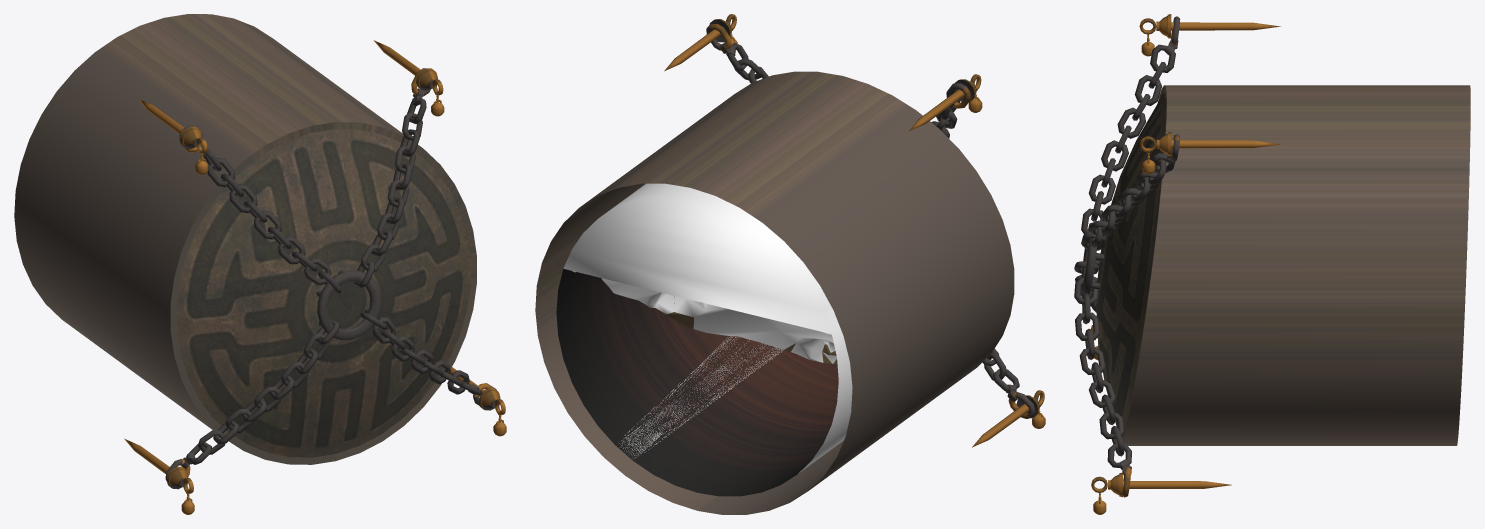
The model's file is objects_un_slshrine01_sw.gltf.
The picture shows the model from 3 angles, left to right: view 1: azimuth 30°, elevation 25°; view 2: azimuth 150°, elevation 25°; view 3: azimuth 270°, elevation 25°; orthographic projection. The views are drawn at different scales.
Visible parts, largest first — view 1: um_objects_un_slshrine01_sw_model_lod0Shape:objects_un_slshr (×2), nomerge_cover_01_shape:objects_un_slshrine01_sw_01, nomerge_chainlock_03_shape:objects_un_slshrine01_sw_04, nomerge_chainlock_02_shape:objects_un_slshrine01_sw_04, nomerge_chainlock_01_shape:objects_un_slshrine01_sw_04, nomerge_chainlock_04_shape:objects_un_slshrine01_sw_04, nomerge_cover_01_shape:objects_un_slshrine01_sw_04; view 2: um_objects_un_slshrine01_sw_model_lod0Shape:objects_un_slshr (×3), nomerge_chainlock_03_shape:objects_un_slshrine01_sw_04, nomerge_chainlock_02_shape:objects_un_slshrine01_sw_04, nomerge_chainlock_01_shape:objects_un_slshrine01_sw_04; view 3: um_objects_un_slshrine01_sw_model_lod0Shape:objects_un_slshr, nomerge_cover_01_shape:objects_un_slshrine01_sw_01, nomerge_chainlock_04_shape:objects_un_slshrine01_sw_04, nomerge_chainlock_01_shape:objects_un_slshrine01_sw_04, nomerge_chainlock_02_shape:objects_un_slshrine01_sw_04, nomerge_cover_01_shape:objects_un_slshrine01_sw_04.
Boxes of the visible parts, x1=… form: um_objects_un_slshrine01_sw_model_lod0Shape:objects_un_slshr (×2): x1=14, y1=14, x2=476, y2=464; nomerge_cover_01_shape:objects_un_slshrine01_sw_01: x1=177, y1=129, x2=470, y2=457; nomerge_chainlock_03_shape:objects_un_slshrine01_sw_04: x1=124, y1=319, x2=339, y2=514; nomerge_chainlock_02_shape:objects_un_slshrine01_sw_04: x1=354, y1=40, x2=444, y2=287; nomerge_chainlock_01_shape:objects_un_slshrine01_sw_04: x1=138, y1=98, x2=341, y2=293; nomerge_chainlock_04_shape:objects_un_slshrine01_sw_04: x1=360, y1=311, x2=506, y2=436; nomerge_cover_01_shape:objects_un_slshrine01_sw_04: x1=316, y1=270, x2=380, y2=340; um_objects_un_slshrine01_sw_model_lod0Shape:objects_un_slshr (×3): x1=535, y1=71, x2=1014, y2=514; nomerge_chainlock_03_shape:objects_un_slshrine01_sw_04: x1=972, y1=348, x2=1045, y2=447; nomerge_chainlock_02_shape:objects_un_slshrine01_sw_04: x1=664, y1=14, x2=768, y2=83; nomerge_chainlock_01_shape:objects_un_slshrine01_sw_04: x1=908, y1=74, x2=982, y2=138; um_objects_un_slshrine01_sw_model_lod0Shape:objects_un_slshr: x1=1122, y1=85, x2=1470, y2=445; nomerge_cover_01_shape:objects_un_slshrine01_sw_01: x1=1096, y1=93, x2=1165, y2=428; nomerge_chainlock_04_shape:objects_un_slshrine01_sw_04: x1=1074, y1=277, x2=1231, y2=514; nomerge_chainlock_01_shape:objects_un_slshrine01_sw_04: x1=1081, y1=14, x2=1280, y2=233; nomerge_chainlock_02_shape:objects_un_slshrine01_sw_04: x1=1081, y1=132, x2=1280, y2=250; nomerge_cover_01_shape:objects_un_slshrine01_sw_04: x1=1081, y1=222, x2=1104, y2=294.
Size of what is drawn, in the model's own units: 6.13 by 6.21 by 6.13.
8 materials, 7 textured.
